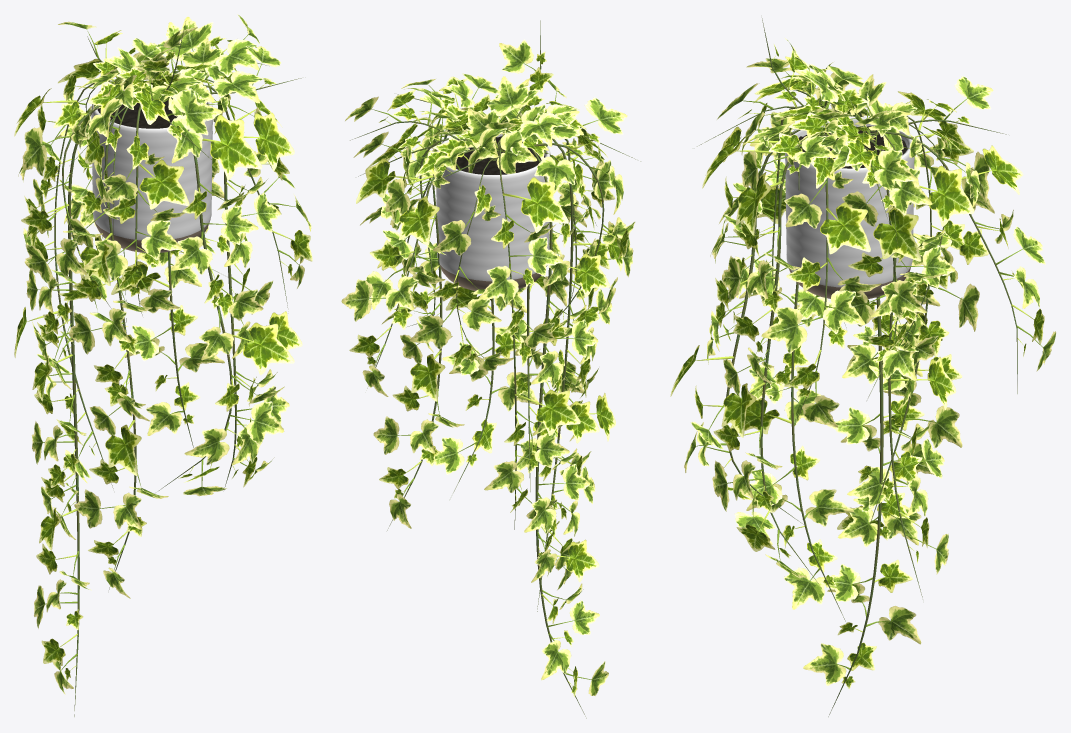
File: ivy.glb
The picture shows the model from 3 angles, left to right: view 1: azimuth 30°, elevation 25°; view 2: azimuth 150°, elevation 25°; view 3: azimuth 270°, elevation 25°; orthographic projection. The views are drawn at different scales.
Visible parts, largest first — view 1: 0307vase8, ivy leaf a 1-2.012, ivy leaf a 1-1.012, ivy leaf a 1-2.009, ivy leaf a 1-1.006, ivy leaf a 1-1.009, ivy leaf a 1-2.006, ivy leaf a 1-2.010, ivy leaf a 1-2.016, ivy leaf a 1-2.020, ivy leaf a 1-1.010, ivy leaf a 1-2.007 (+27 smaller); view 2: 0307vase8, ivy leaf a 1-2.006, ivy leaf a 1-2.023, ivy leaf a 1-1.023, ivy leaf a 1-1.006, ivy leaf a 1-2.022, ivy leaf a 1-2.024, ivy leaf a 1-2.020, ivy leaf a 1-1.022, ivy leaf a 1-2.016, ivy leaf a 1-2.014, ivy leaf a 1-1.020 (+28 smaller); view 3: 0307vase8, ivy leaf a 1-2.006, ivy leaf a 1-2.009, ivy leaf a 1-2.018, ivy leaf a 1-1.016, ivy leaf a 1-2.016, ivy leaf a 1-2.020, ivy leaf a 1-1.018, ivy leaf a 1-1.006, ivy leaf a 1-2.023, ivy leaf a 1-1.020, ivy leaf a 1-1.009 (+28 smaller).
Boxes of the visible parts, box(x1,y1,x2,y2) form: 0307vase8: box(91, 79, 212, 252); ivy leaf a 1-2.012: box(167, 91, 284, 496); ivy leaf a 1-1.012: box(163, 82, 294, 482); ivy leaf a 1-2.009: box(66, 202, 168, 598); ivy leaf a 1-1.006: box(26, 156, 83, 680); ivy leaf a 1-1.009: box(72, 186, 146, 565); ivy leaf a 1-2.006: box(26, 173, 91, 694); ivy leaf a 1-2.010: box(83, 153, 185, 313); ivy leaf a 1-2.016: box(206, 96, 289, 480); ivy leaf a 1-2.020: box(119, 59, 224, 435); ivy leaf a 1-1.010: box(105, 132, 189, 296); ivy leaf a 1-2.007: box(22, 125, 128, 326); 0307vase8: box(436, 134, 550, 290); ivy leaf a 1-2.006: box(524, 228, 608, 695); ivy leaf a 1-2.023: box(479, 146, 569, 519); ivy leaf a 1-1.023: box(491, 131, 580, 512); ivy leaf a 1-1.006: box(537, 223, 609, 696); ivy leaf a 1-2.022: box(341, 171, 449, 396); ivy leaf a 1-2.024: box(410, 202, 513, 370); ivy leaf a 1-2.020: box(373, 147, 464, 528); ivy leaf a 1-1.022: box(349, 151, 446, 365); ivy leaf a 1-2.016: box(426, 111, 538, 474); ivy leaf a 1-2.014: box(468, 78, 627, 173); ivy leaf a 1-1.020: box(379, 169, 445, 498); 0307vase8: box(785, 116, 914, 299); ivy leaf a 1-2.006: box(803, 204, 942, 685); ivy leaf a 1-2.009: box(739, 179, 853, 609); ivy leaf a 1-2.018: box(761, 171, 881, 427); ivy leaf a 1-1.016: box(713, 172, 790, 558); ivy leaf a 1-2.016: box(712, 144, 806, 578); ivy leaf a 1-2.020: box(870, 136, 954, 574); ivy leaf a 1-1.018: box(784, 157, 870, 397); ivy leaf a 1-1.006: box(837, 242, 924, 688); ivy leaf a 1-2.023: box(847, 106, 994, 508); ivy leaf a 1-1.020: box(888, 165, 974, 563); ivy leaf a 1-1.009: box(730, 186, 837, 587).
Size of the model in its own units: 26.3 by 63.55 by 29.78.
5 materials, 5 textured.
